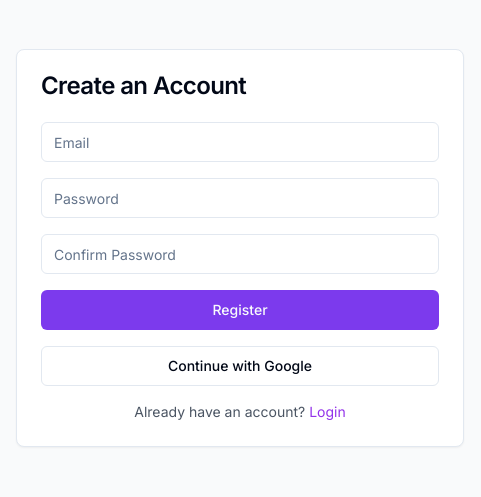
Test: RegisterPage › shows error when passwords do not match
The image size is (481, 497).
Type "test@example.com" into the field with placeholder "Email" at [240, 142], box top-left (41, 122), bottom-right (439, 162)
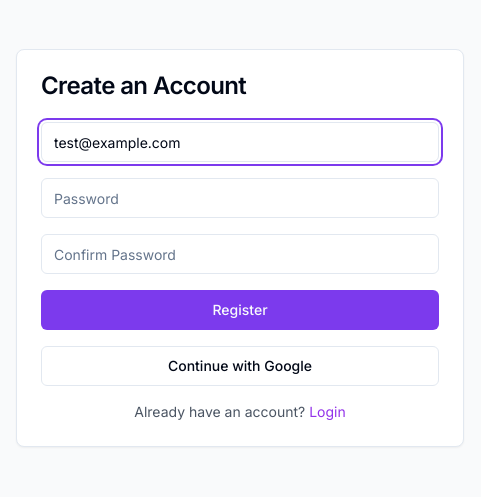
Type "password123" into the password field with placeholder "Password" at [240, 198], box top-left (41, 178), bottom-right (439, 218)
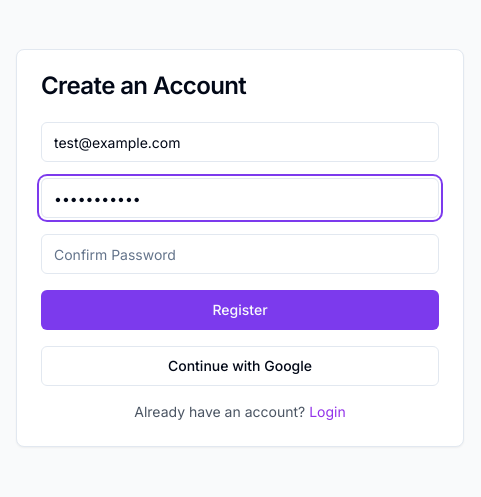
Type "differentpassword" into the password field with placeholder "Confirm Password" at [240, 254], box top-left (41, 234), bottom-right (439, 274)
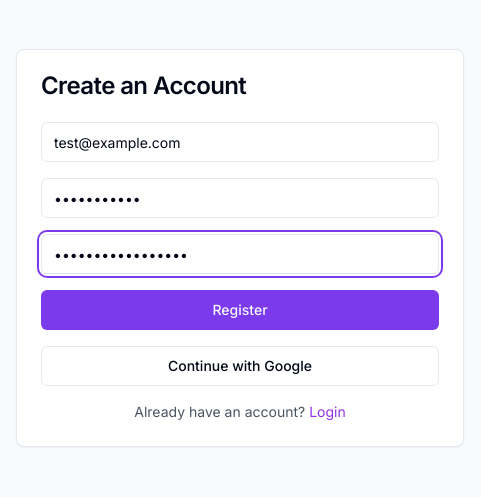
Click the button "Register" at [240, 310], box top-left (41, 290), bottom-right (439, 330)
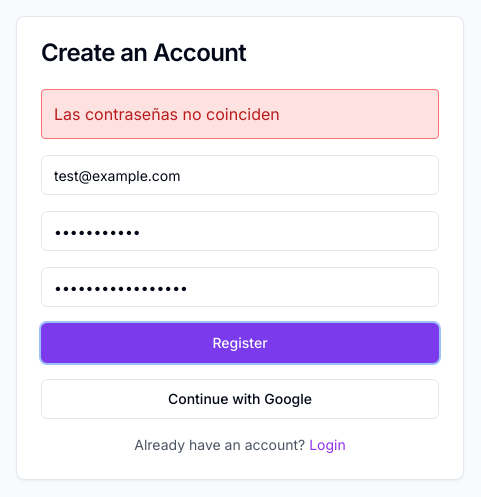
Result: the text "Las contraseñas no coinciden" is shown at top-left (41, 89), bottom-right (439, 139)
